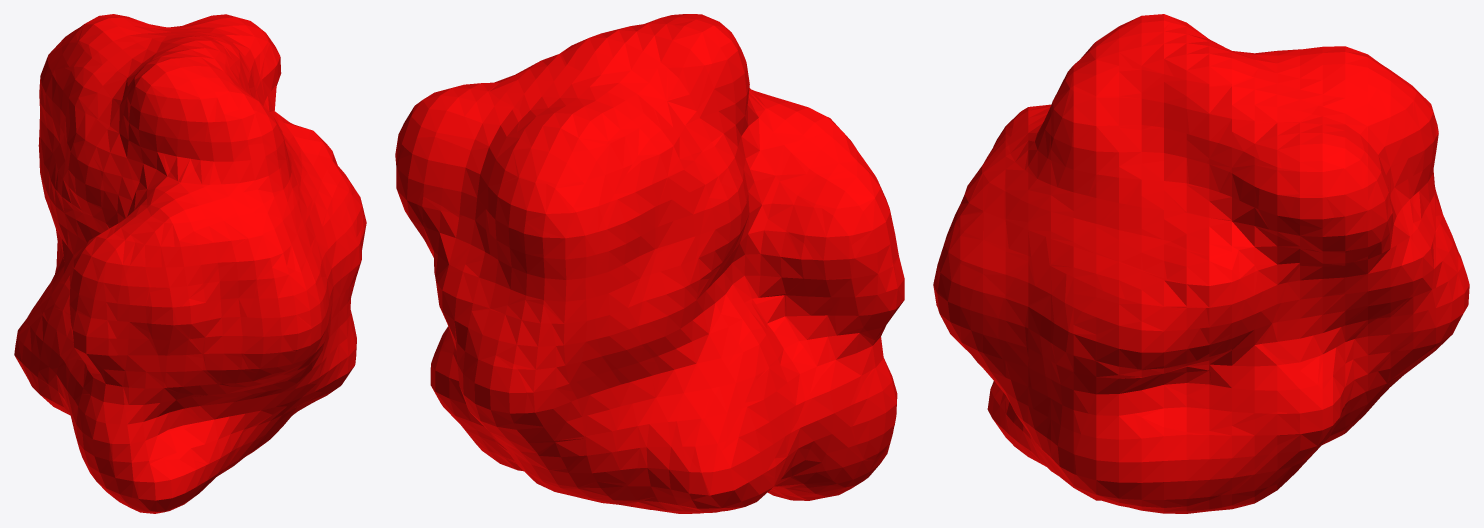
Rendered from tmk_coarse.dae.
3 views of the same model, side by side, from view 1: azimuth 30°, elevation 25°; view 2: azimuth 150°, elevation 25°; view 3: azimuth 270°, elevation 25° (orthographic). The views are drawn at different scales.
Parts seen in each view (by area): view 1: tmk; view 2: tmk; view 3: tmk.
Part boxes in pixels (<box>): tmk: <box>14,14,366,513</box>; tmk: <box>395,14,904,513</box>; tmk: <box>933,14,1469,513</box>.
Bounding box in the file's own units: 41.19 × 49.43 × 50.82.
